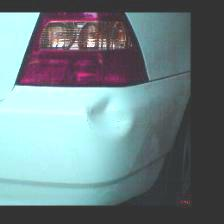bumper_dent: (86, 93, 139, 149)
